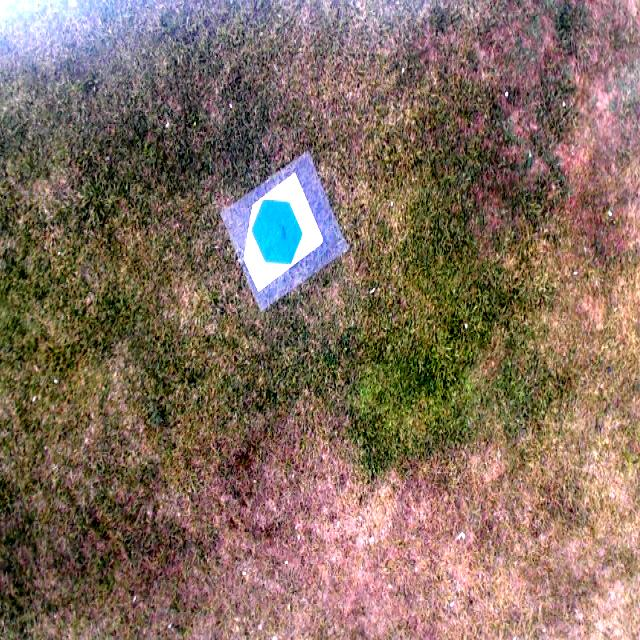blue_hexagon: (250, 198, 304, 264)
